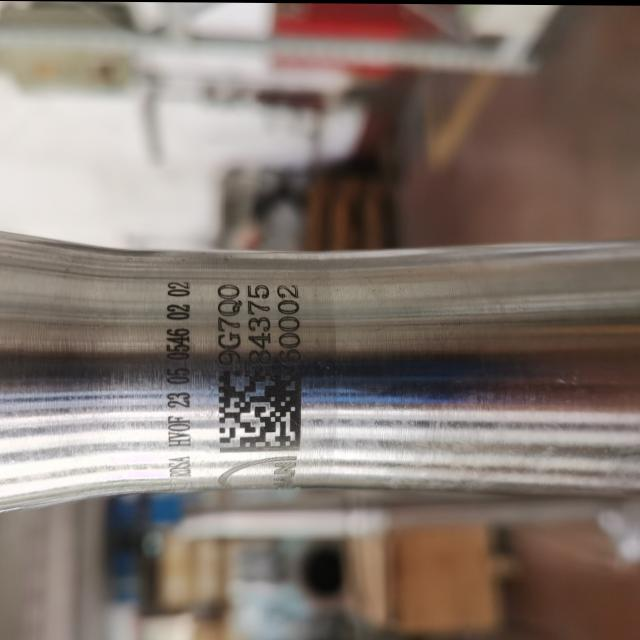dmc: (218, 368, 302, 452)
